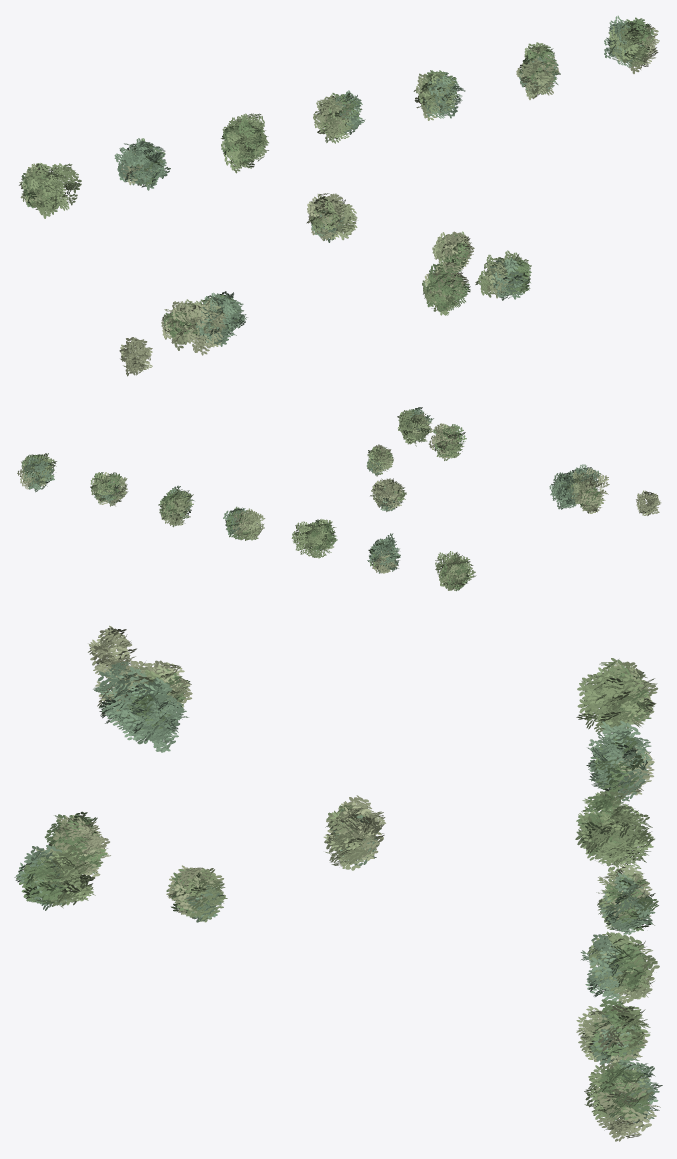
The model's file is campus-tree--4_-4-middle.glb.
The picture shows the model from 3 angles, top to bottom: view 1: azimuth 30°, elevation 25°; view 2: azimuth 150°, elevation 25°; view 3: azimuth 270°, elevation 25°; orthographic projection. The views are drawn at different scales.
Parts seen in each view (by area): view 1: Campus leaf canopy; view 2: Campus leaf canopy; view 3: Campus leaf canopy.
Part boxes in pixels (<box>): Campus leaf canopy: <box>19,15,659,376</box>; Campus leaf canopy: <box>17,407,661,591</box>; Campus leaf canopy: <box>14,625,662,1141</box>.
Size of the model in its own units: 83.18 by 7.44 by 46.34.
Materials: 1 (1 with a texture image).
